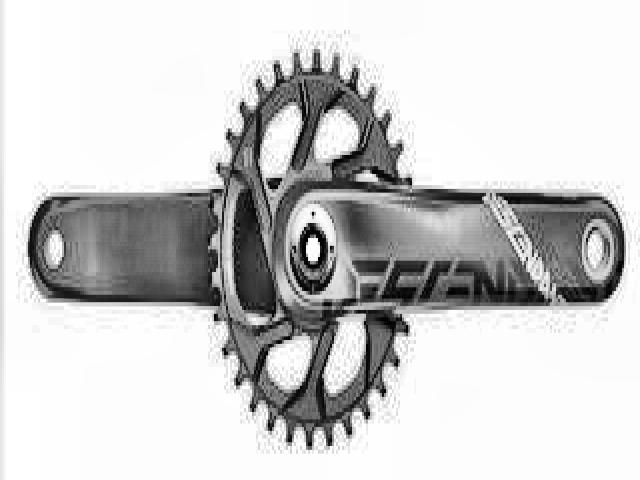cranks_set: (208, 44, 626, 453)
